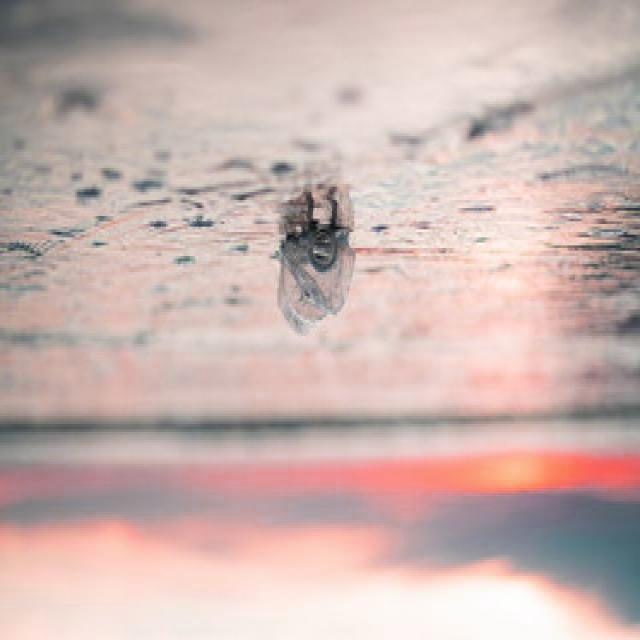Plastic: (278, 220, 358, 338)
